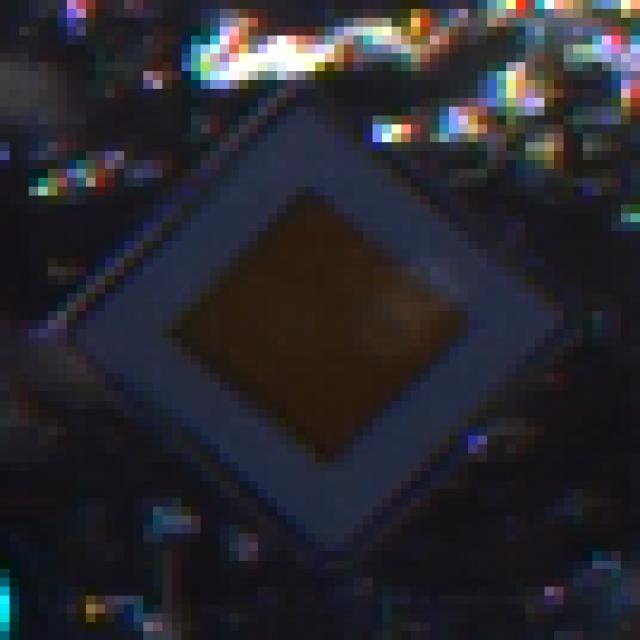Main Road: (58, 63, 584, 588)
